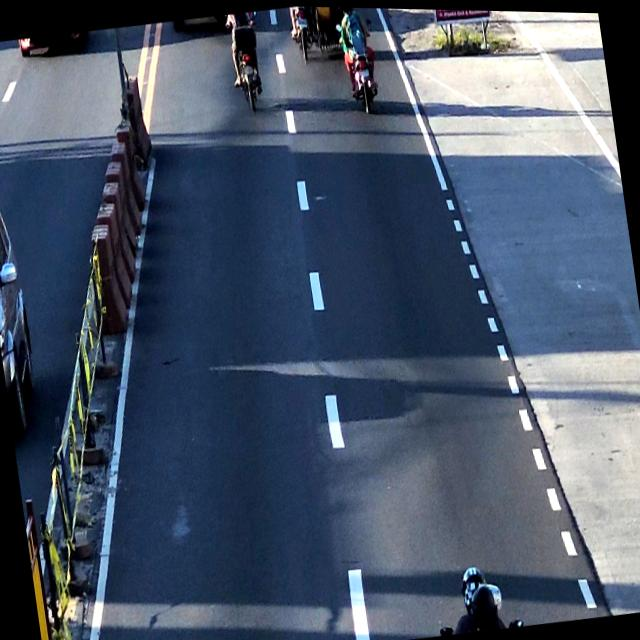Motorcycle: (431, 549, 528, 636), (330, 6, 383, 115), (224, 9, 272, 113)
